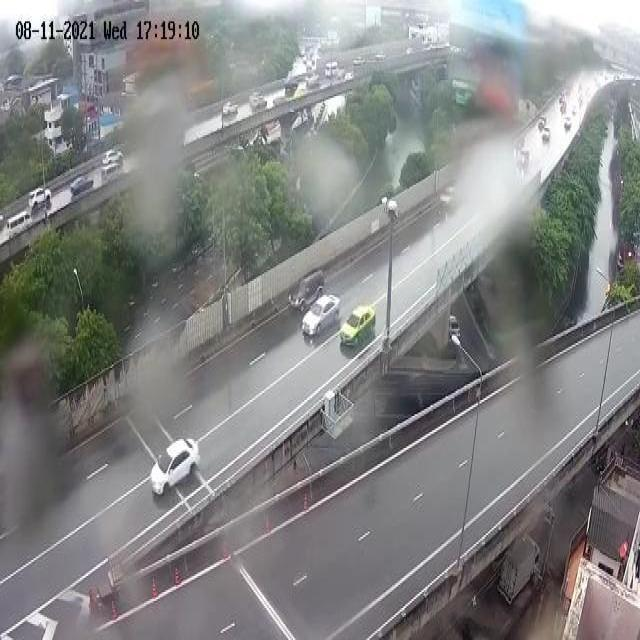Car: (149, 433, 199, 496), (340, 300, 376, 350), (286, 270, 326, 314), (301, 295, 340, 340), (28, 187, 52, 214), (101, 146, 125, 168), (70, 174, 94, 195), (222, 99, 240, 119), (251, 94, 268, 114)
Truck: (493, 530, 543, 612)
Van: (6, 211, 32, 238)
